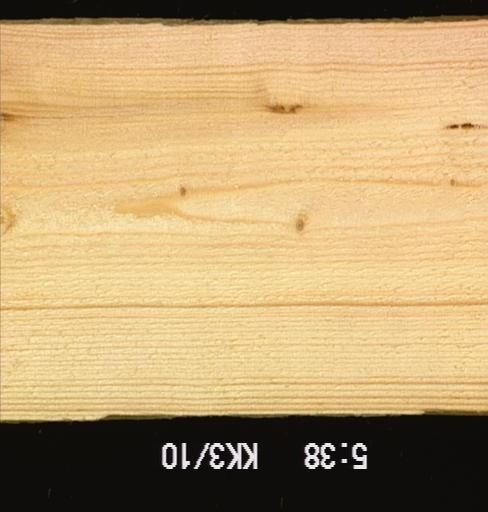small_knot: (294, 217, 304, 231), (178, 184, 187, 198), (449, 177, 456, 186)
